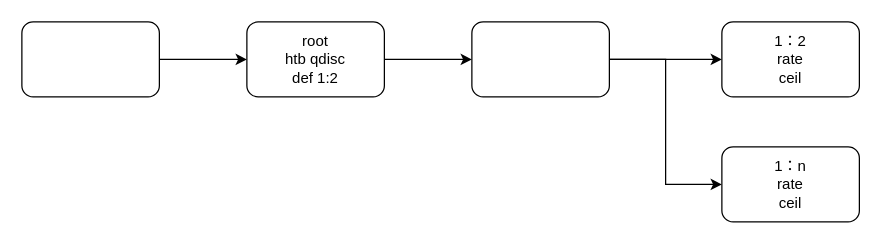
This 881x244 diagram has some shape labels left out. Each missing label, with the box of its shape:
1：1 rate ceil: (471, 21, 609, 97)
NIC: (21, 21, 159, 97)
